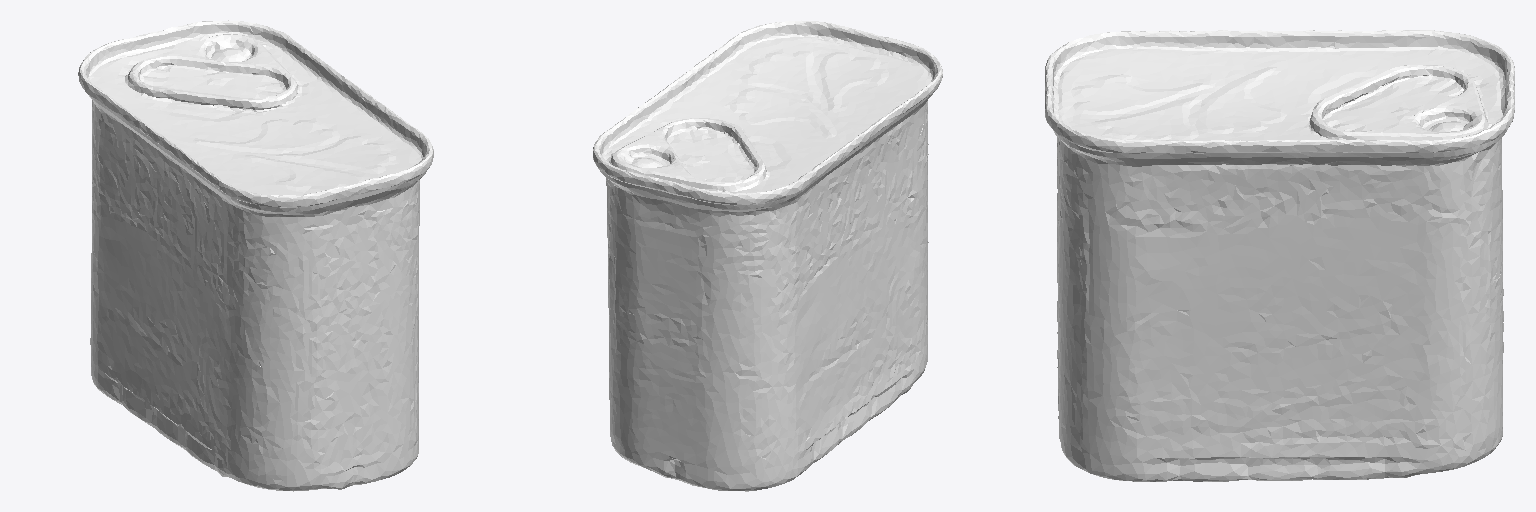
robot.urdf — potted_meat_can:
<robot name="potted_meat_can">
    <link name="base_link">
        <visual>
            <origin xyz="-0.0 0.0 0.0" rpy="0.0 0.0 0.0" />
            <geometry>
                <mesh filename="potted_meat_can/textured.obj" scale="1 1 1" />
            </geometry>
            <material name="texture">
                <color rgba="1.0 1.0 1.0 1.0" />
            </material>
        </visual>
        <collision>
            <origin xyz="-0.0 0.0 0.0" rpy="0.0 0.0 0.0" />
            <geometry>
                <mesh filename="potted_meat_can/textured_coacd_0.stl" scale="1 1 1" />
            </geometry>
        </collision>
        <collision>
            <origin xyz="-0.0 0.0 0.0" rpy="0.0 0.0 0.0" />
            <geometry>
                <mesh filename="potted_meat_can/textured_coacd_1.stl" scale="1 1 1" />
            </geometry>
        </collision>
        <collision>
            <origin xyz="-0.0 0.0 0.0" rpy="0.0 0.0 0.0" />
            <geometry>
                <mesh filename="potted_meat_can/textured_coacd_2.stl" scale="1 1 1" />
            </geometry>
        </collision>
        <collision>
            <origin xyz="-0.0 0.0 0.0" rpy="0.0 0.0 0.0" />
            <geometry>
                <mesh filename="potted_meat_can/textured_coacd_3.stl" scale="1 1 1" />
            </geometry>
        </collision>
        <collision>
            <origin xyz="-0.0 0.0 0.0" rpy="0.0 0.0 0.0" />
            <geometry>
                <mesh filename="potted_meat_can/textured_coacd_4.stl" scale="1 1 1" />
            </geometry>
        </collision>
        <inertial>
            <mass value="0.37" />
            <inertia ixx="1e-3" ixy="0.0" ixz="0.0" iyy="1e-3" iyz="0.0" izz="1e-3" />
        </inertial>
    </link>
</robot>

--- What the picture shows (computed from the rendered views, not written in the file) ---
3 views of the same robot in one strip: view 1: azimuth 30°, elevation 25°; view 2: azimuth 150°, elevation 25°; view 3: azimuth 270°, elevation 25° (orthographic).
Robot: potted_meat_can — 1 links, 0 joints (none); root link base_link; default pose: every joint at zero.
Links seen in each view (by area): view 1: base_link; view 2: base_link; view 3: base_link.
Link boxes in pixels (x1=…): base_link: x1=78, y1=20, x2=433, y2=491; base_link: x1=593, y1=20, x2=942, y2=491; base_link: x1=1045, y1=30, x2=1514, y2=481.
Size in the robot's own frame: 0.0573 by 0.1015 by 0.0834 metres.
Meshes: 1 distinct files referenced, 1 mesh visuals loaded (1 OBJ).